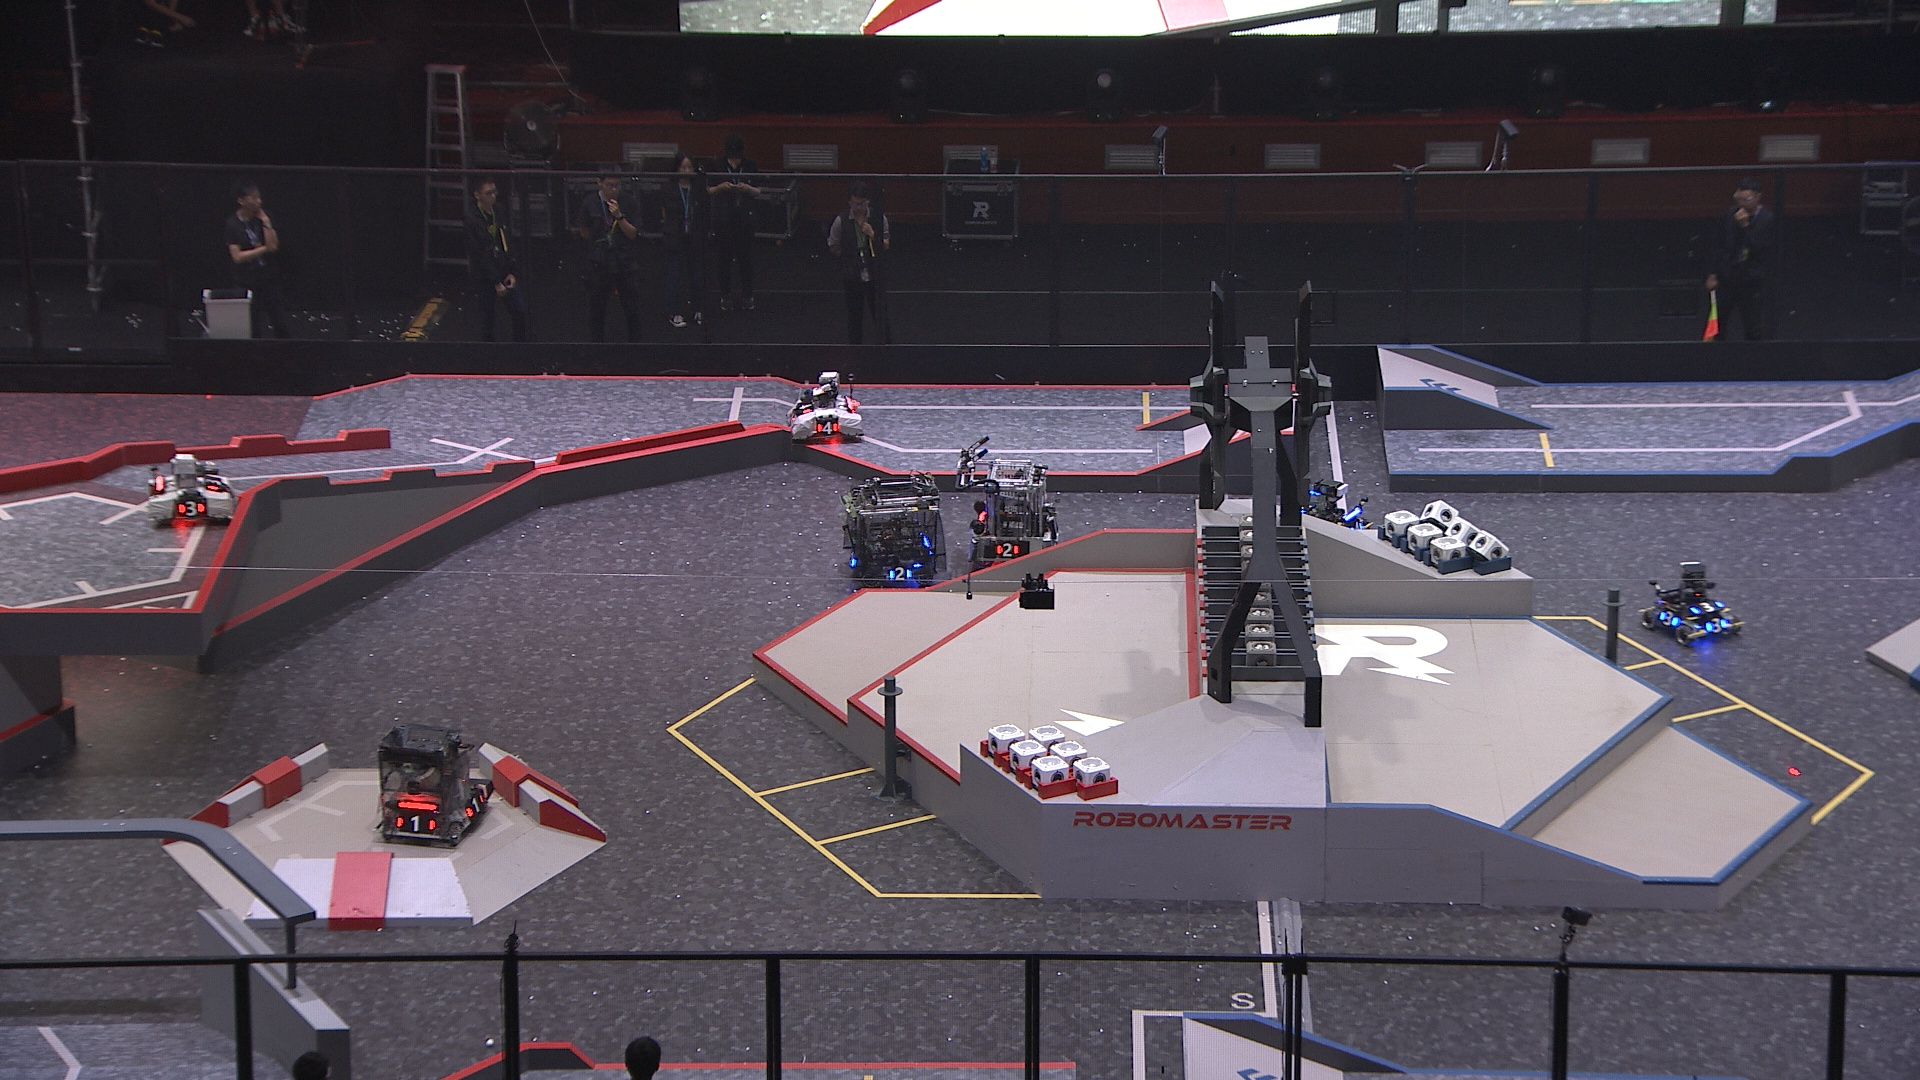armor: (394, 814, 436, 833), (1691, 600, 1726, 616), (465, 793, 487, 818), (887, 566, 916, 583), (175, 501, 204, 518), (994, 543, 1021, 560), (1659, 608, 1681, 626), (816, 419, 840, 436), (1706, 617, 1727, 636), (204, 473, 223, 495), (795, 398, 812, 413)
car: (371, 721, 495, 847), (845, 472, 944, 591), (968, 454, 1060, 571), (1636, 559, 1743, 650), (141, 452, 240, 529), (1288, 480, 1375, 541), (787, 371, 862, 440)
